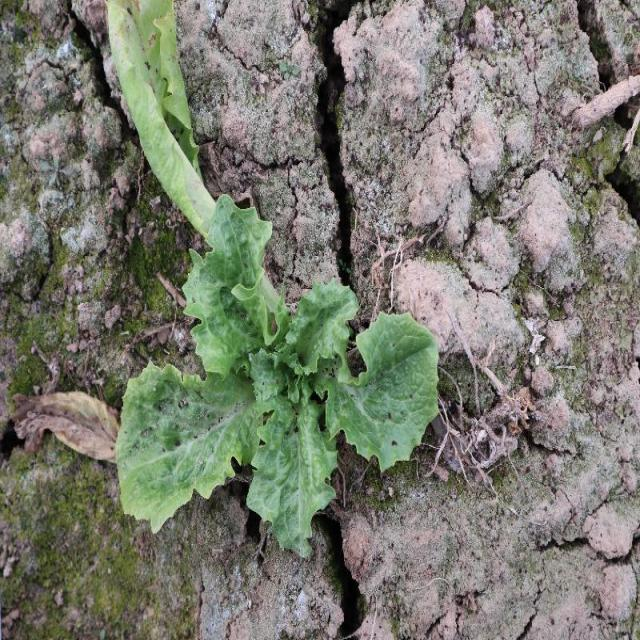crop: (115, 191, 441, 560)
